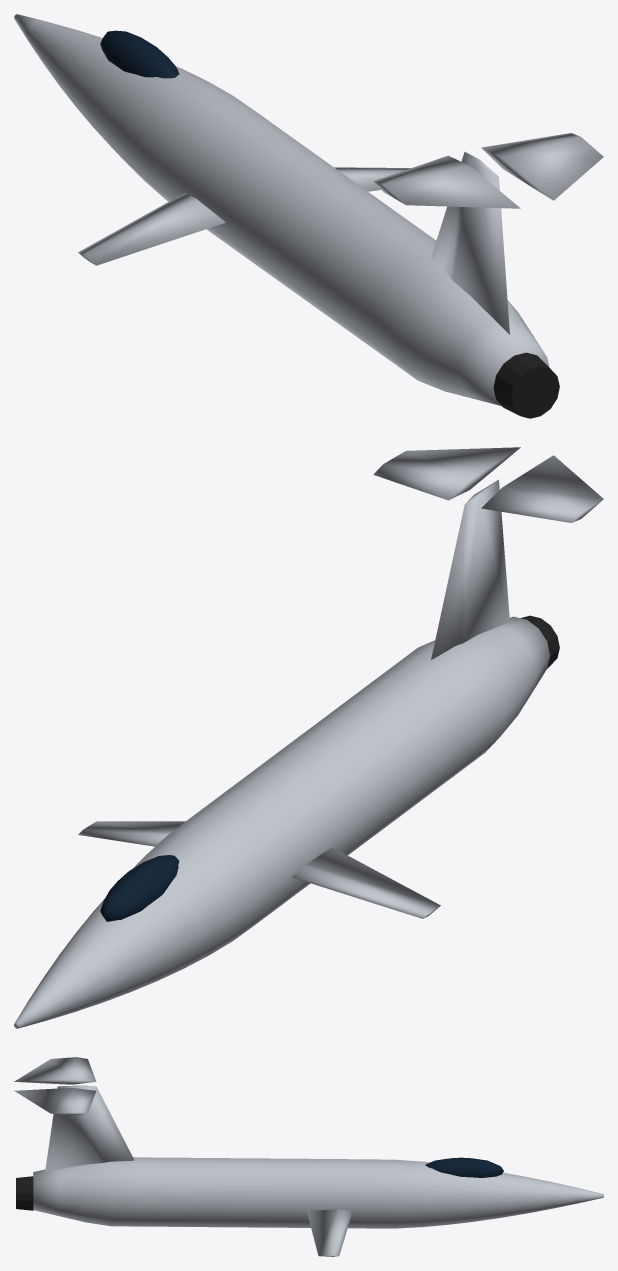
The picture shows the model from 3 angles, top to bottom: view 1: azimuth 30°, elevation 25°; view 2: azimuth 150°, elevation 25°; view 3: azimuth 270°, elevation 25°; orthographic projection. The views are drawn at different scales.
Visible parts, largest first — view 1: Body, Detail, Canopy; view 2: Body, Canopy; view 3: Body, Canopy, Detail.
Part boxes in pixels (<box>): Body: <box>14,14,603,405</box>; Detail: <box>493,352,559,418</box>; Canopy: <box>100,30,179,78</box>; Body: <box>14,447,603,1028</box>; Canopy: <box>100,855,179,921</box>; Body: <box>14,1057,603,1256</box>; Canopy: <box>425,1157,503,1177</box>; Detail: <box>16,1176,33,1210</box>.
Bounding box in the file's own units: 6.6 × 4.58 × 17.26.
